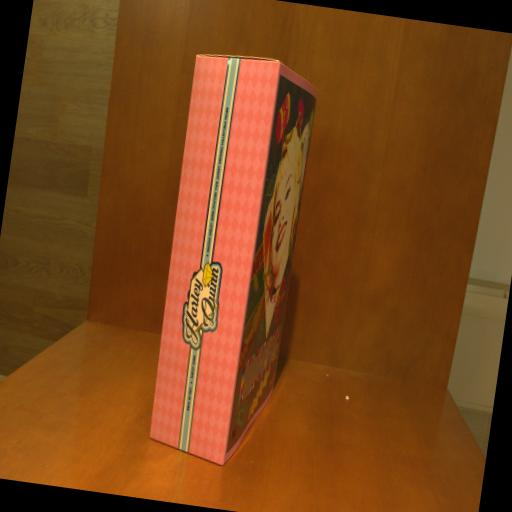Harley: (140, 49, 322, 473)
